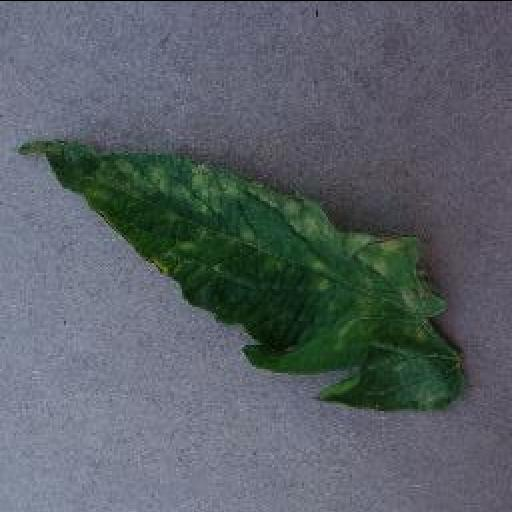disease_tomato: (20, 136, 468, 417)
